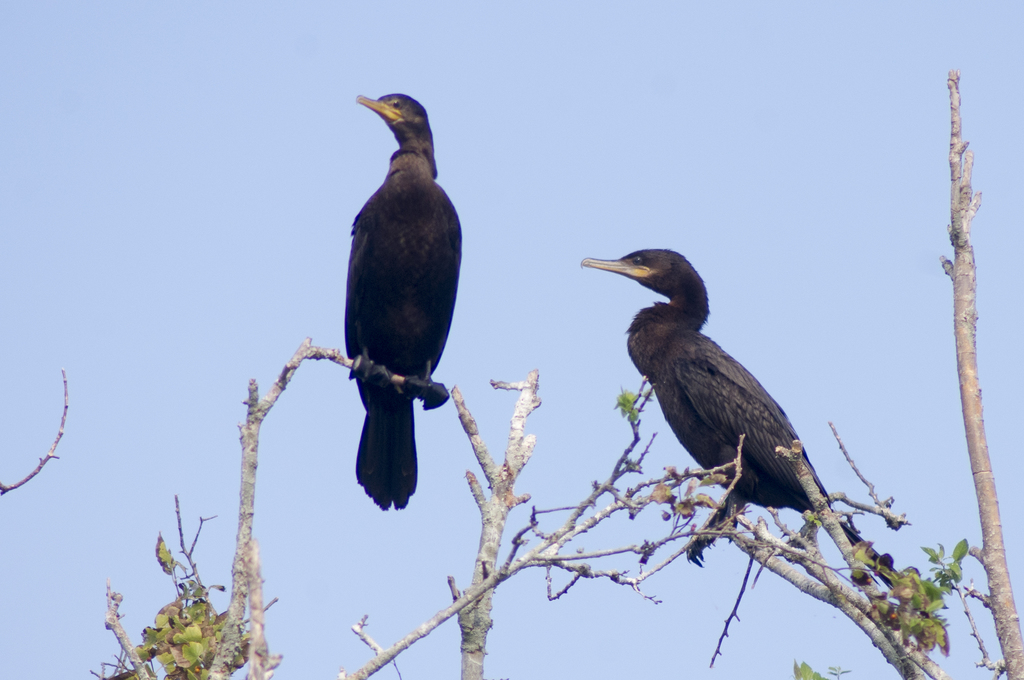Bird: (580, 249, 899, 590), (345, 93, 462, 511)
